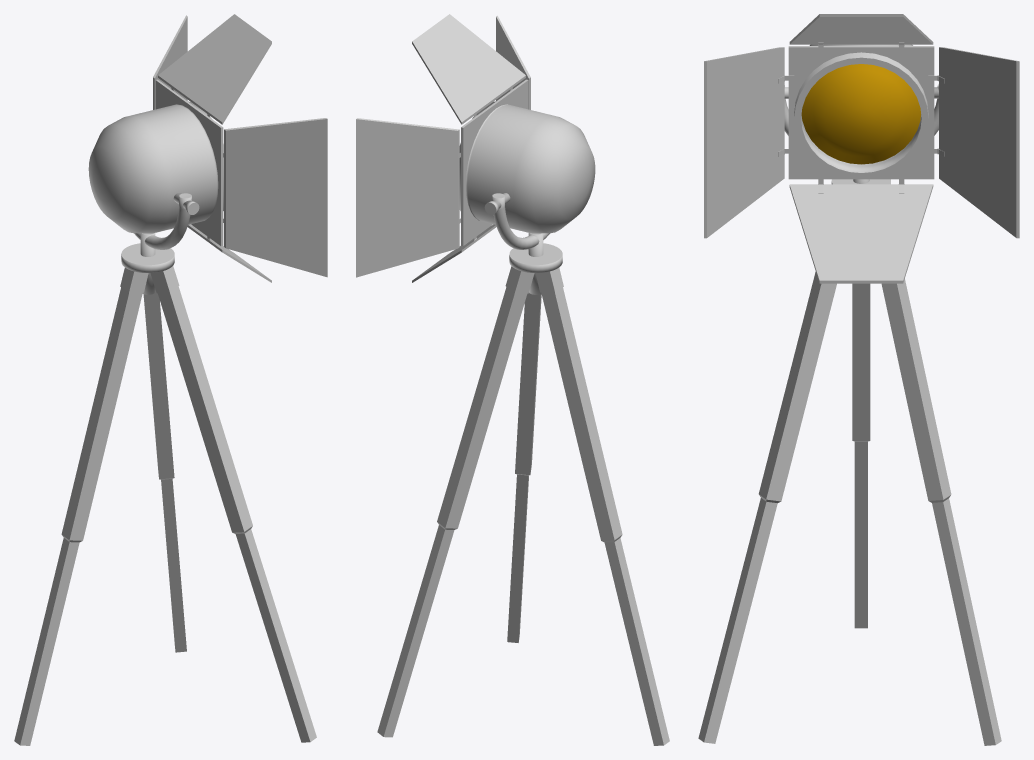
Rendered from Spotlight.fbx.
3 renders of one model, left to right at view 1: azimuth 30°, elevation 25°; view 2: azimuth 150°, elevation 25°; view 3: azimuth 270°, elevation 25°, orthographic. The views are drawn at different scales.
Visible parts, largest first — view 1: Light, Tripod; view 2: Light, Tripod; view 3: Light, Tripod.
Boxes of the visible parts, <box> form: Light: <box>88,14,327,294</box>; Tripod: <box>14,266,316,745</box>; Light: <box>356,14,595,294</box>; Tripod: <box>377,266,669,745</box>; Light: <box>704,14,1019,283</box>; Tripod: <box>698,271,1001,745</box>.
Size of the model in its own units: 72.17 by 190 by 75.
